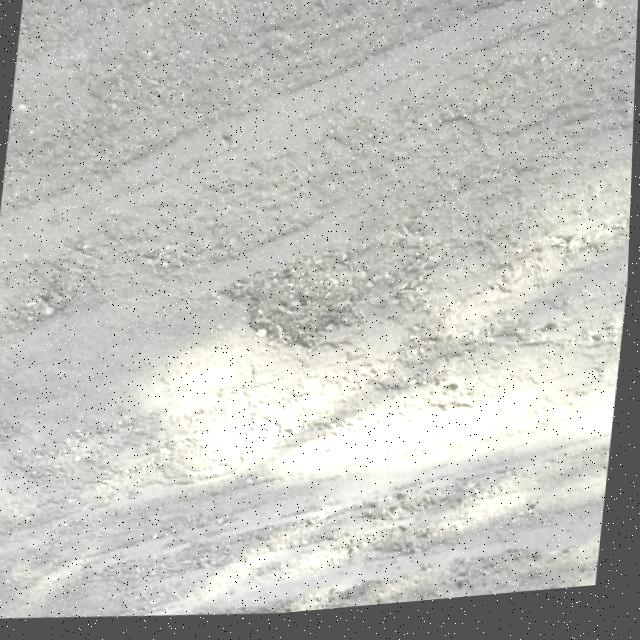Pothole: (216, 246, 379, 366), (364, 488, 454, 536), (366, 528, 453, 570)
